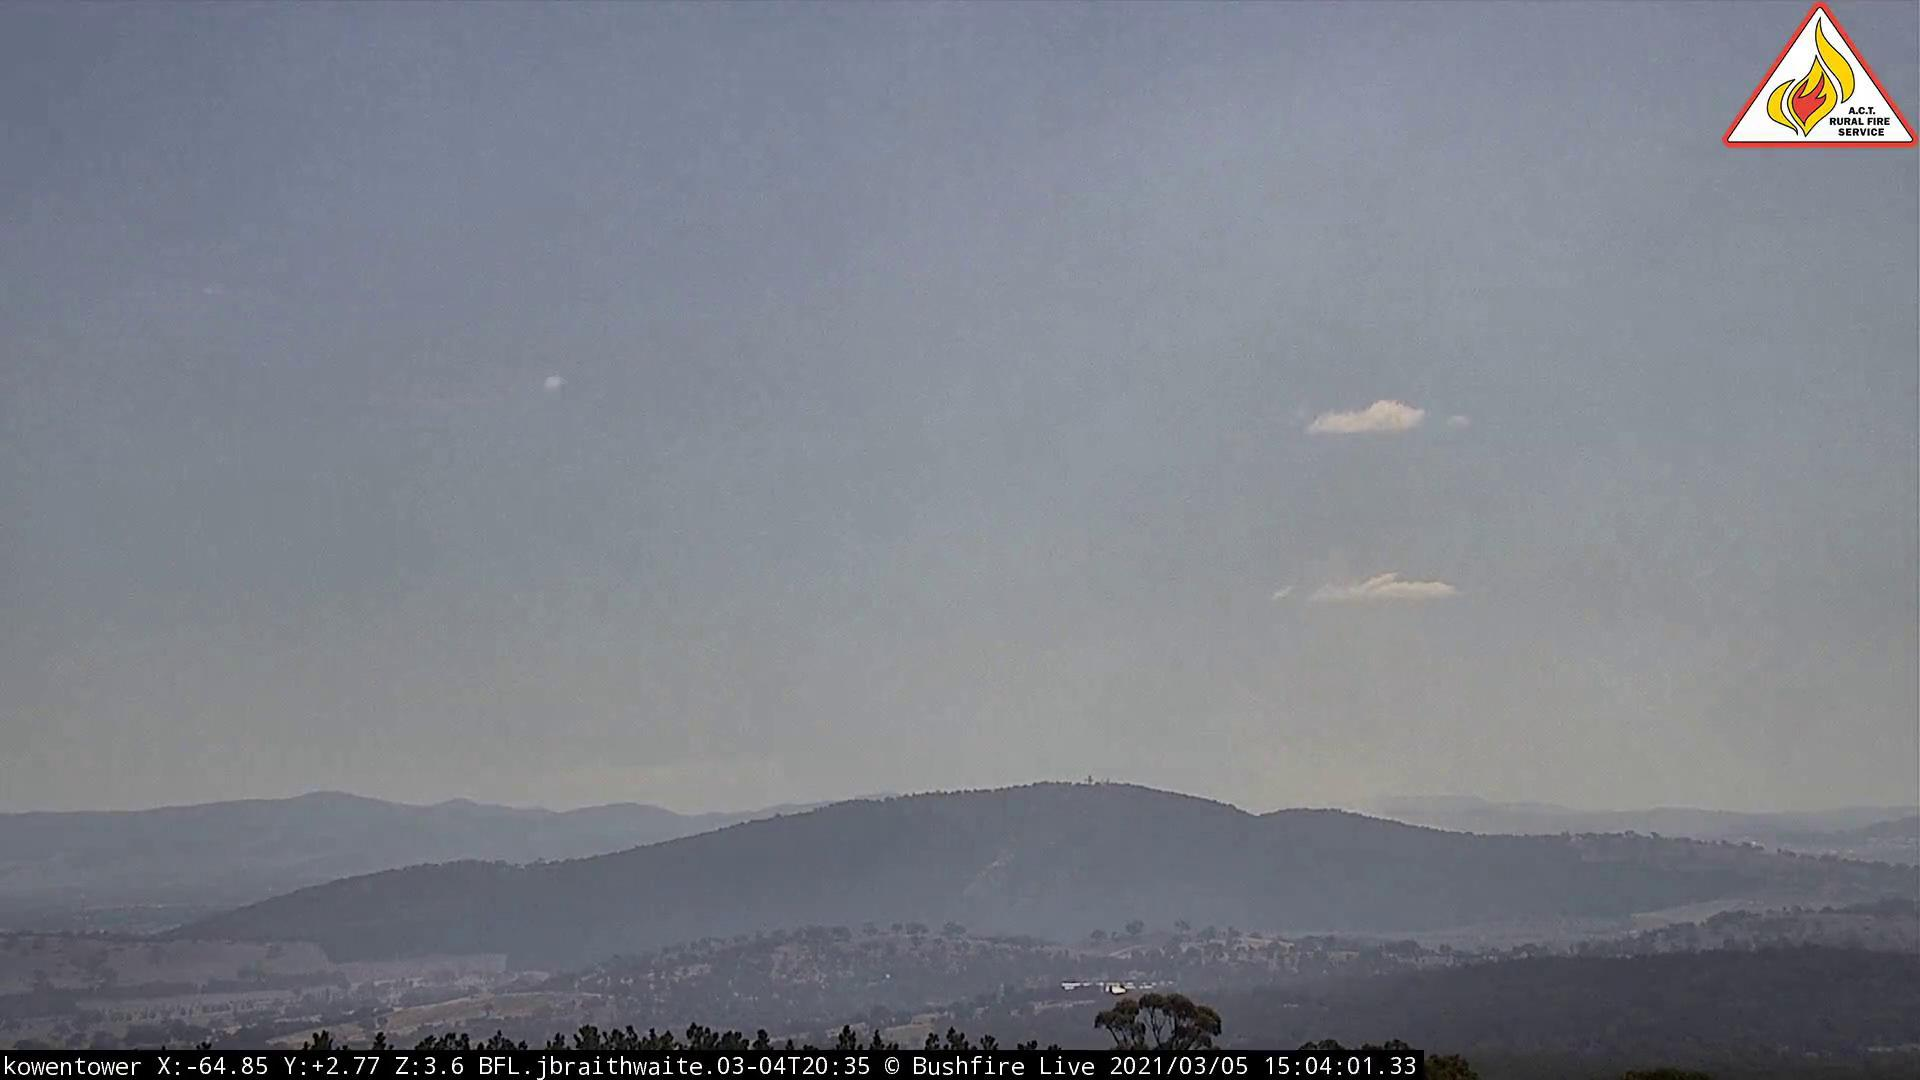Smoke: (1195, 542, 1832, 837)
